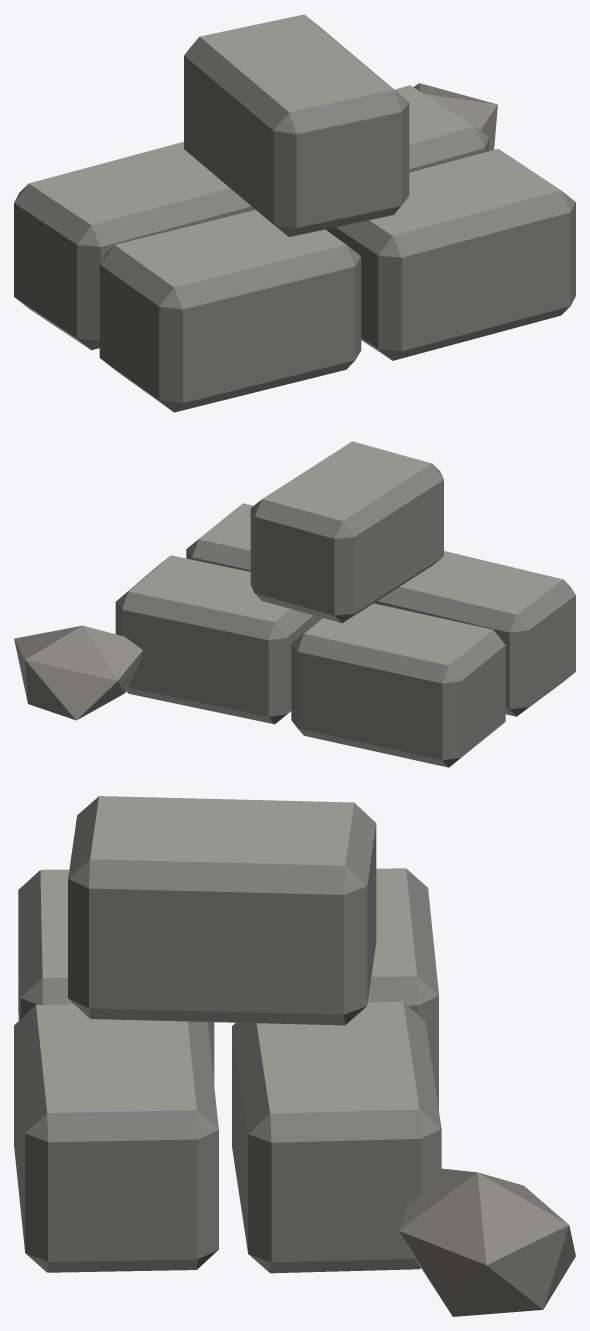
Rendered from Res_StonePile.fbx.
3 renders of one model, top to bottom at view 1: azimuth 30°, elevation 25°; view 2: azimuth 150°, elevation 25°; view 3: azimuth 270°, elevation 25°, orthographic. The views are drawn at different scales.
Visible parts, largest first — view 1: Res_StonePile; view 2: Res_StonePile; view 3: Res_StonePile.
Boxes of the visible parts, box(x1,y1,x2,y2) form: Res_StonePile: box(14, 14, 575, 412); Res_StonePile: box(14, 441, 575, 767); Res_StonePile: box(14, 796, 575, 1316).
Size of the model in its own units: 0.8635 by 0.4157 by 0.6377.
